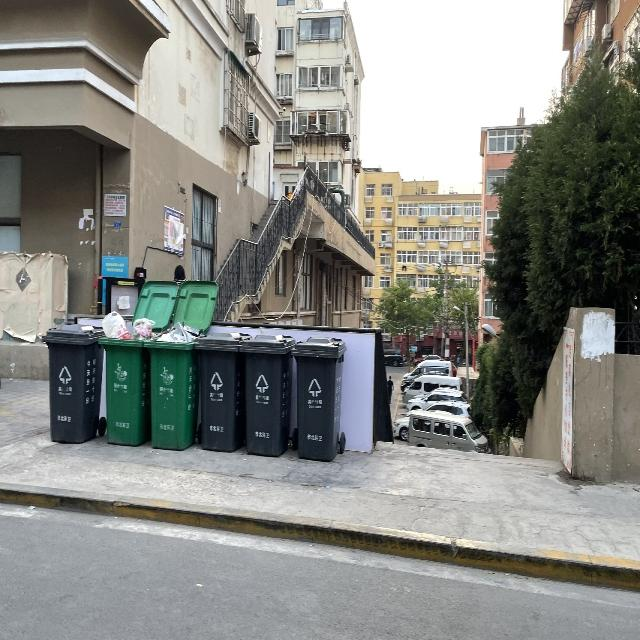garbage_bin: (41, 324, 103, 443), (290, 335, 345, 462), (194, 331, 252, 451), (239, 334, 294, 457)
overflow: (98, 309, 154, 445), (143, 321, 200, 450)
